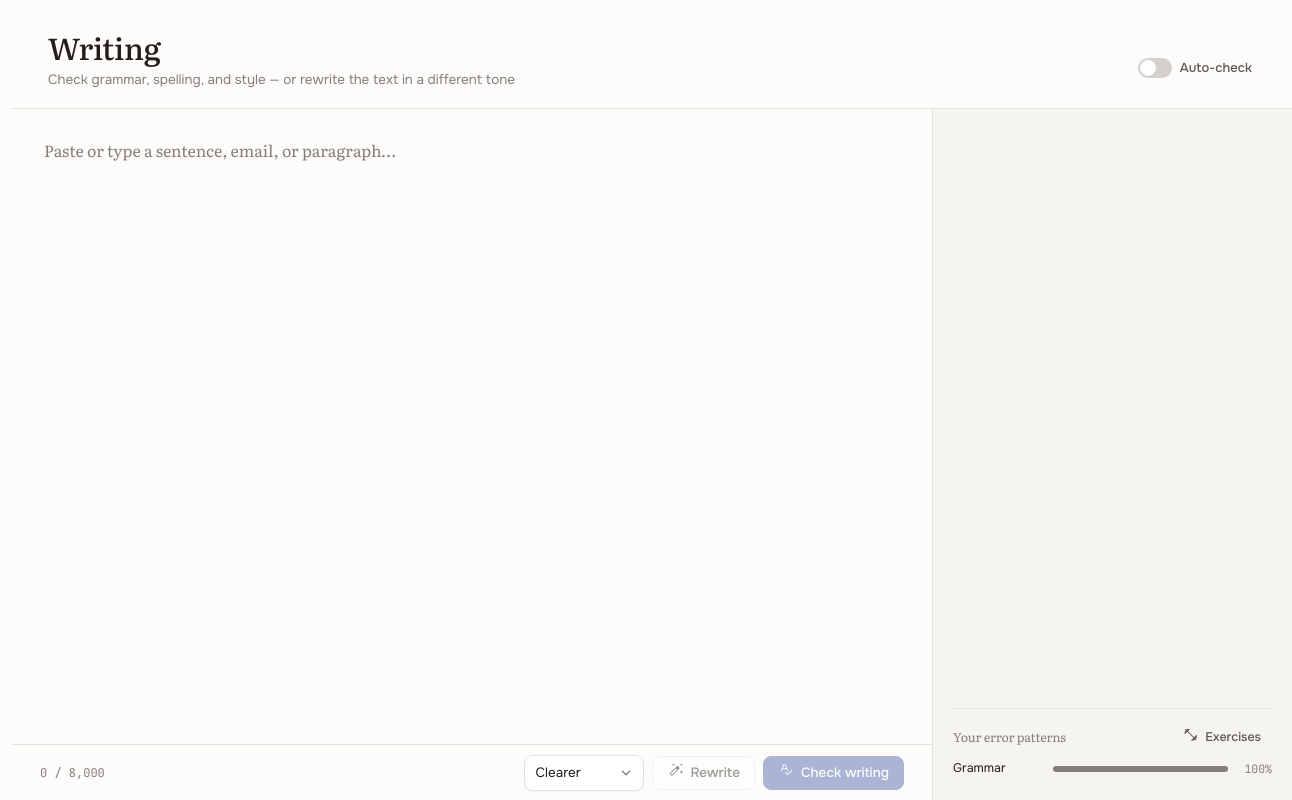
Scenario: WritingPage › renders error patterns and generates exercises with a revealable answer
expect the heading "Your error patterns" is shown: met, box x1=953 y1=727 x2=1066 y2=746
expect the text "Grammar" is shown: met, box x1=953 y1=760 x2=1006 y2=776
Click the button with aria-label "Generate exercises from error patterns": click(1222, 737) x1=1171 y1=723 x2=1272 y2=751
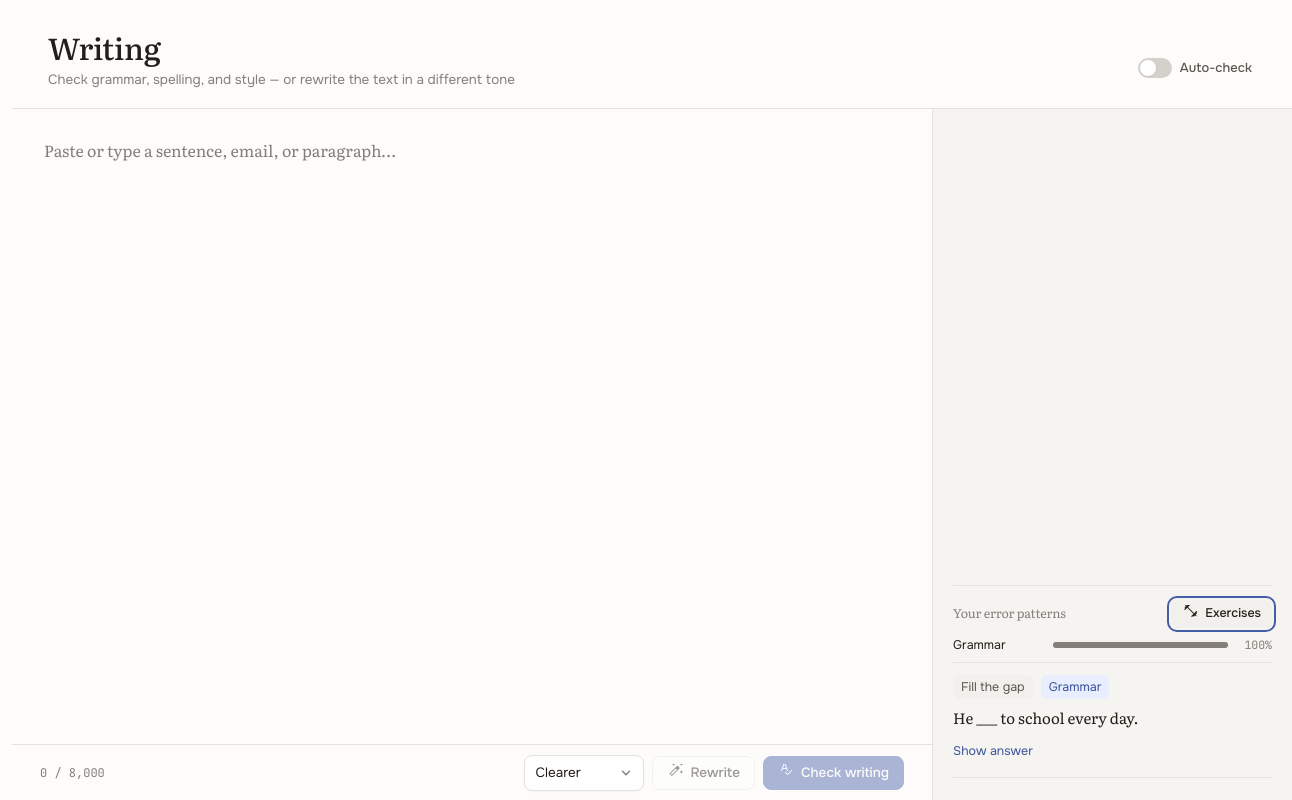
expect the text "He ___ to school every day." is shown: met, box x1=953 y1=706 x2=1138 y2=729
Click the heading "Show answer": click(993, 751) x1=953 y1=743 x2=1033 y2=759
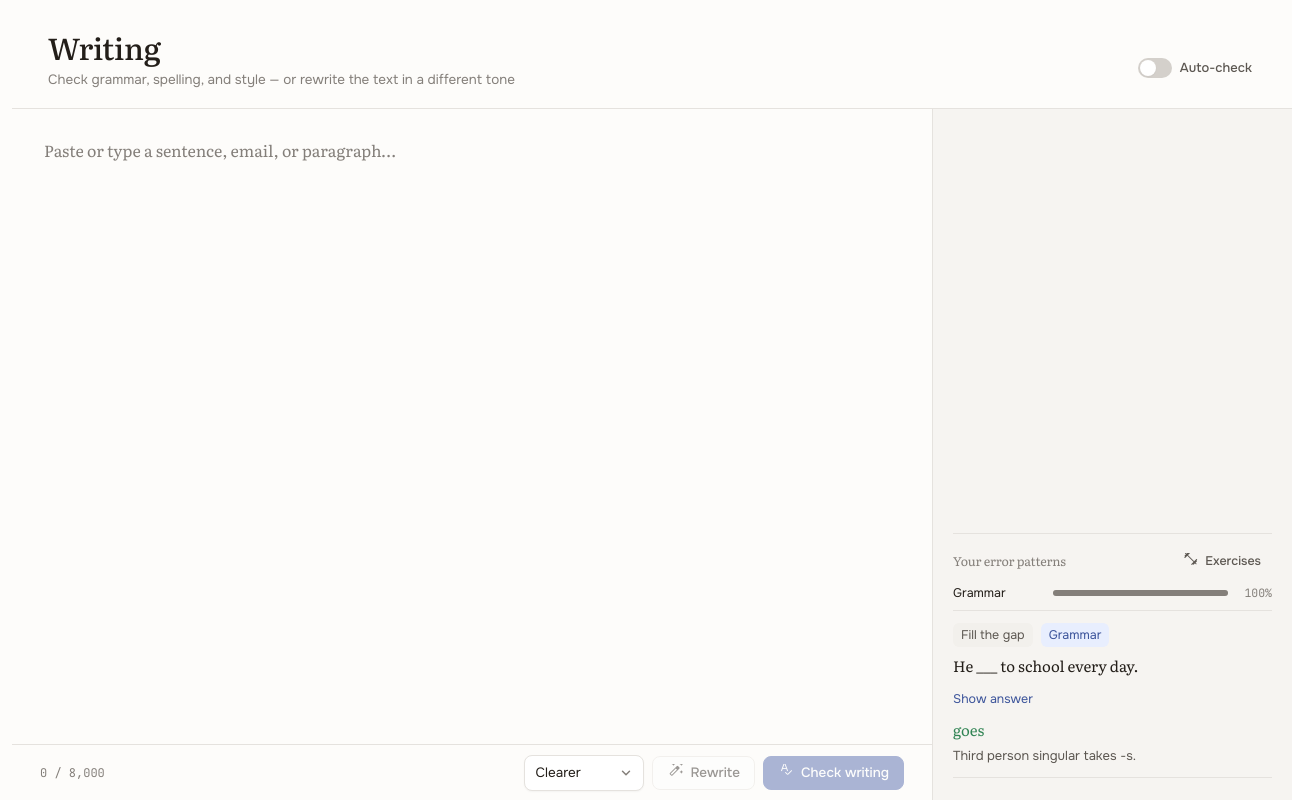
expect the text "goes" is shown: met, box x1=953 y1=718 x2=984 y2=741
expect the text "Third person singular takes -s." is shown: met, box x1=953 y1=746 x2=1136 y2=764
